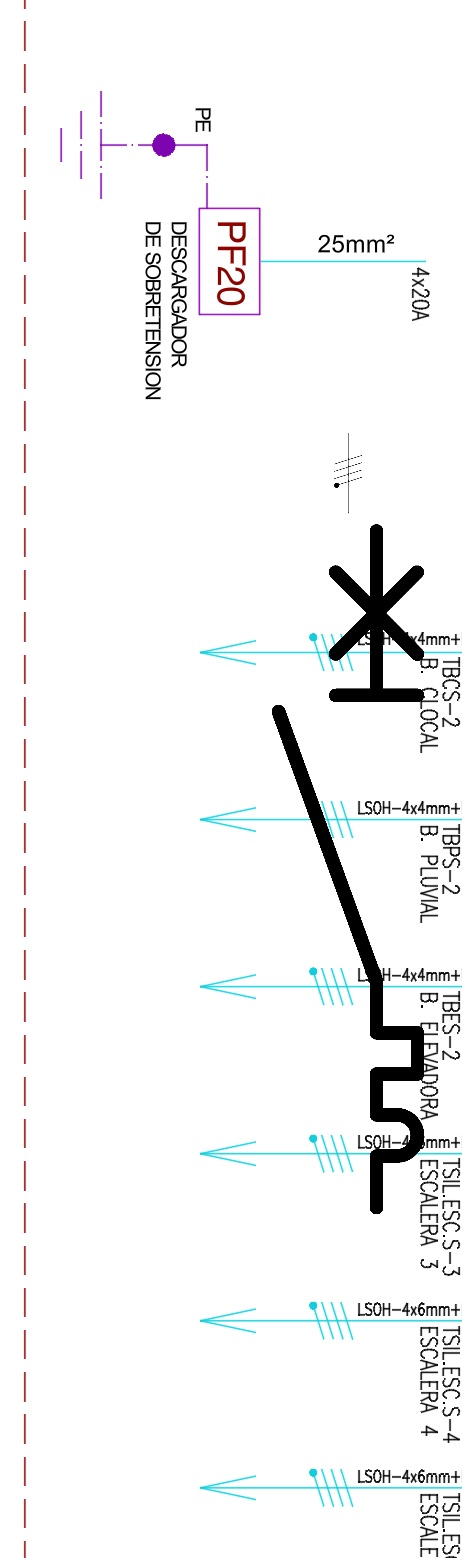interruptor_termomagnetico: (261, 513, 435, 1224)
